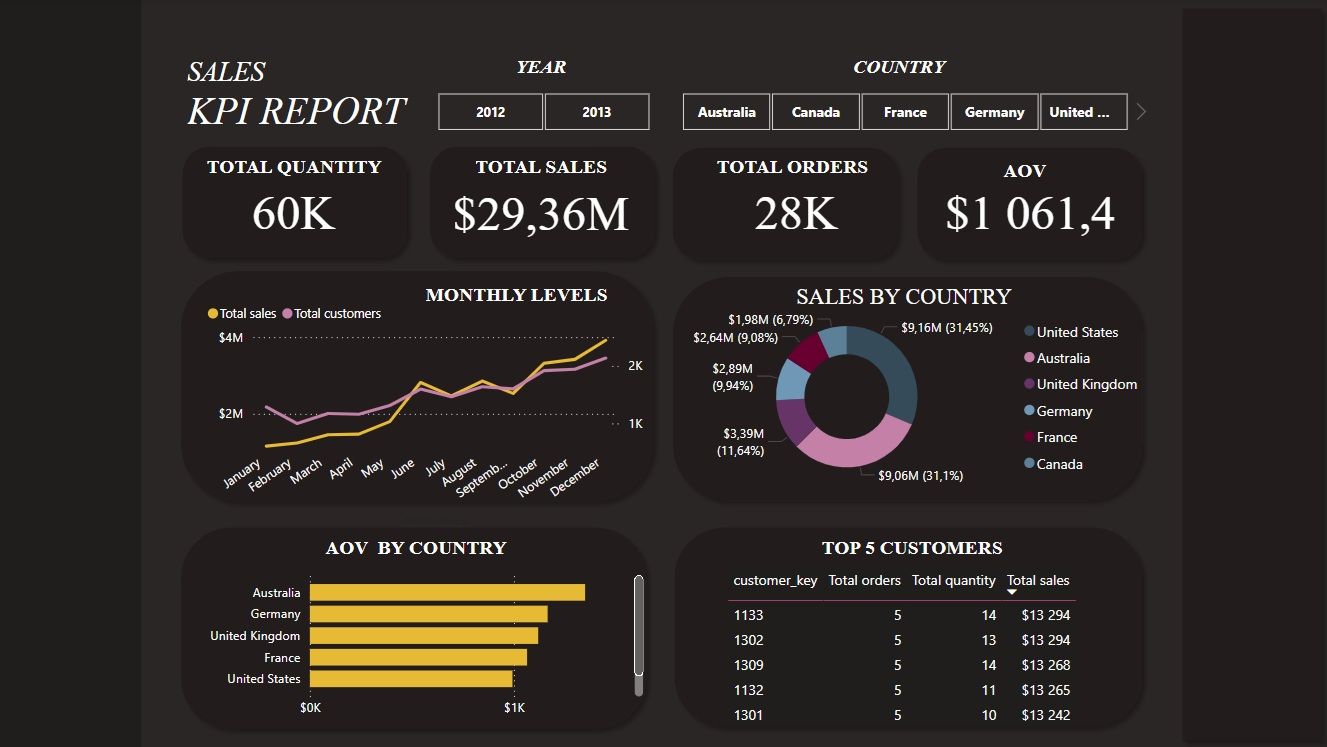

This screenshot's page, from the dashboard's own definition file:
{"tool":"powerbi","page":{"name":"Page 1","canvas":[1280,720],"ordinal":0},"visuals":[{"type":"shape","box":[1128.9,0,151,720.5],"z":0},{"type":"shape","box":[0,0,139.5,720.5],"z":1000},{"type":"shape","box":[169,131.8,234.2,125.6],"z":2000},{"type":"shape","box":[406.3,131.8,234.2,125.6],"z":3000},{"type":"shape","box":[640.5,133.4,234.2,125.6],"z":4000},{"type":"shape","box":[874.7,133.4,234.2,125.6],"z":5000},{"type":"textbox","box":[686,136.6,235.9,59],"z":6000},{"type":"textbox","box":[960.7,140.9,87.7,54.6],"z":7000},{"type":"textbox","box":[197,145.2,225.8,40.3],"z":8000},{"type":"textbox","box":[454.4,145.2,218.6,54.6],"z":9000},{"type":"card","fields":{"Values":["CustomerSQLtbl.Total orders"]},"box":[709,166.8,116.5,67.6],"z":10000},{"type":"card","fields":{"Values":["CustomerSQLtbl.Total sales"]},"box":[395.5,168.3,254.5,67.6],"z":11000},{"type":"card","fields":{"Values":["CustomerSQLtbl.AOV"]},"box":[878.7,149.6,225.8,102.1],"z":12000},{"type":"card","fields":{"Values":["CustomerSQLtbl.Total quantity"]},"box":[227.2,171.1,116.5,60.4],"z":13000},{"type":"shape","box":[168.5,252,470.9,239.4],"z":14000},{"type":"lineChart","fields":{"Category":["Datetbl.Month Name"],"Y":["CustomerSQLtbl.Total sales"],"Y2":["CustomerSQLtbl.Total customers"]},"box":[197,281.9,428.6,228.7],"z":15000},{"type":"shape","box":[640,257.4,468.8,233],"z":16000},{"type":"donutChart","fields":{"Y":["CustomerSQLtbl.Total sales"],"Category":["CustomerSQLtbl.country"]},"box":[641.4,287.6,467.4,187],"z":17000},{"type":"textbox","box":[407,267.5,225.8,40.3],"z":18000},{"type":"textbox","box":[762.2,267.5,225.8,40.3],"z":19000},{"type":"textbox","box":[178.3,48.9,329.3,96.4],"z":20000},{"type":"shape","box":[168.3,497.6,464.5,211.4],"z":21000},{"type":"barChart","fields":{"Y":["CustomerSQLtbl.AOV"],"Category":["CustomerSQLtbl.country"]},"box":[192.7,539.3,432.9,158.2],"z":22000},{"type":"textbox","box":[310.6,510.5,225.8,40.3],"z":23000},{"type":"slicer","fields":{"Values":["Datetbl.Year"]},"box":[398.4,83.4,251.7,48.9],"z":24000},{"type":"textbox","box":[493.3,48.9,84.8,36],"z":25000},{"type":"slicer","fields":{"Values":["CustomerSQLtbl.country"]},"box":[632.8,83.4,476,48.9],"z":26000},{"type":"textbox","box":[816.8,48.9,107.9,33.1],"z":27000},{"type":"shape","box":[642.1,497.8,466.8,209.4],"z":28000},{"type":"tableEx","fields":{"Values":["CustomerSQLtbl.customer_key","CustomerSQLtbl.Total orders","CustomerSQLtbl.Total quantity","CustomerSQLtbl.Total sales"]},"box":[696,539.3,484.6,178.3],"z":29000},{"type":"textbox","box":[768,510.5,225.8,40.3],"z":29001}]}

Visuals, with their boxes in screenshot pixels (x1, y1, x2, y2), scaled from the page's 1280x720 canvas onto the 1327x747 screenshot:
shape: 1170, 0, 1326, 746
shape: 0, 0, 145, 746
shape: 175, 137, 418, 267
shape: 421, 137, 664, 267
shape: 664, 138, 907, 269
shape: 907, 138, 1150, 269
textbox: 711, 142, 956, 203
textbox: 996, 146, 1087, 203
textbox: 204, 151, 438, 192
textbox: 471, 151, 698, 207
card - CustomerSQLtbl.Total orders: 735, 173, 856, 243
card - CustomerSQLtbl.Total sales: 410, 175, 674, 245
card - CustomerSQLtbl.AOV: 911, 155, 1145, 261
card - CustomerSQLtbl.Total quantity: 236, 178, 356, 240
shape: 175, 261, 663, 510
lineChart - Datetbl.Month Name x CustomerSQLtbl.Total sales: 204, 292, 649, 530
shape: 664, 267, 1150, 509
donutChart - CustomerSQLtbl.Total sales x CustomerSQLtbl.country: 665, 298, 1150, 492
textbox: 422, 278, 656, 319
textbox: 790, 278, 1024, 319
textbox: 185, 51, 526, 151
shape: 174, 516, 656, 736
barChart - CustomerSQLtbl.AOV x CustomerSQLtbl.country: 200, 560, 649, 724
textbox: 322, 530, 556, 571
slicer - Datetbl.Year: 413, 87, 674, 137
textbox: 511, 51, 599, 88
slicer - CustomerSQLtbl.country: 656, 87, 1150, 137
textbox: 847, 51, 959, 85
shape: 666, 516, 1150, 734
tableEx - CustomerSQLtbl.customer_key x CustomerSQLtbl.Total orders: 722, 560, 1224, 745
textbox: 796, 530, 1030, 571
